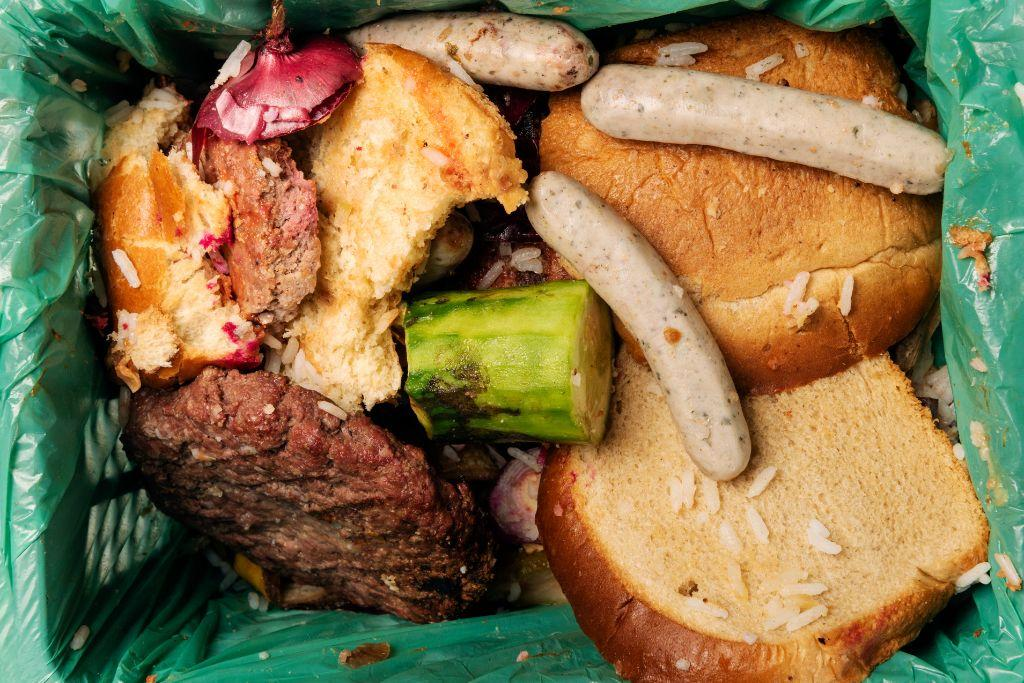organic: (536, 326, 988, 683), (540, 18, 944, 398), (118, 366, 497, 623), (289, 42, 532, 412), (524, 171, 753, 483), (93, 81, 262, 393), (580, 63, 951, 196), (405, 279, 613, 445), (195, 0, 366, 144), (199, 138, 319, 329), (340, 11, 600, 92)
